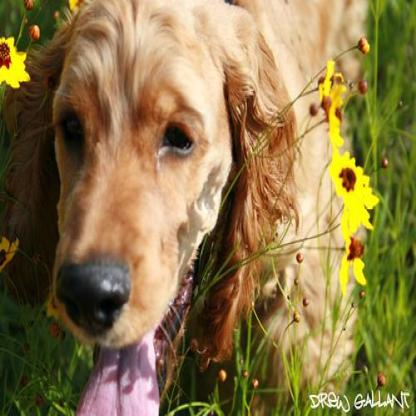cocker_spaniel: (1, 0, 373, 414)
